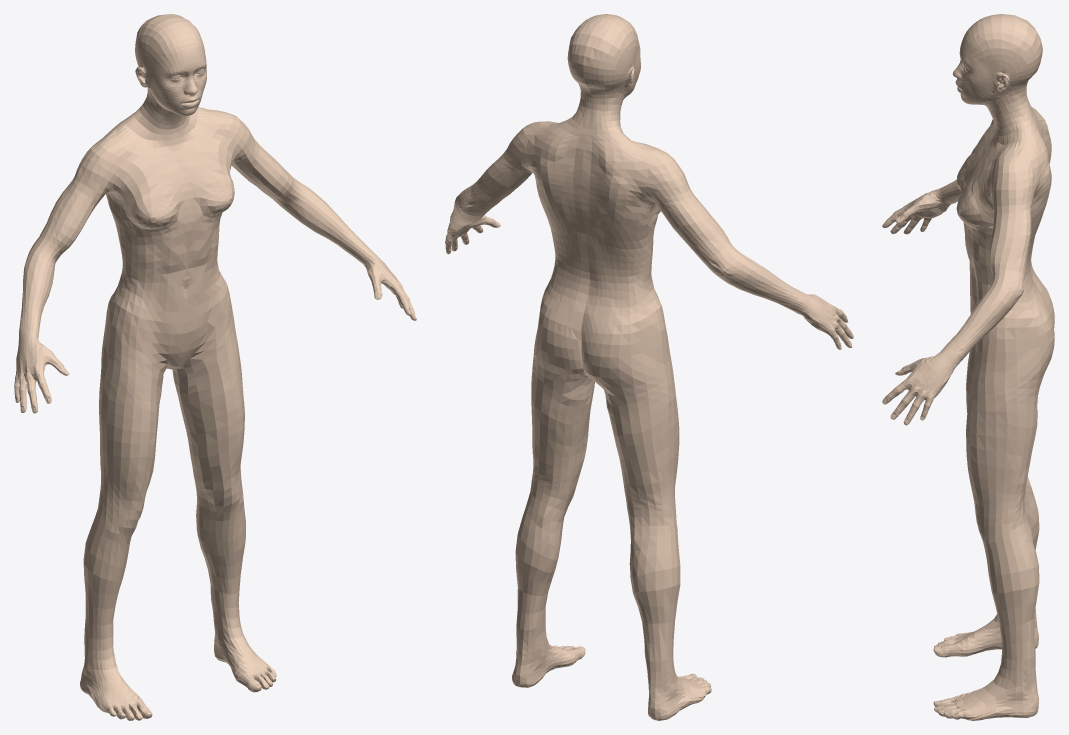
Rendered from female-young-lean-high.glb.
3 renders of one model, left to right at view 1: azimuth 30°, elevation 25°; view 2: azimuth 150°, elevation 25°; view 3: azimuth 270°, elevation 25°, orthographic.
Parts seen in each view (by area): view 1: world; view 2: world; view 3: world.
Part boxes in pixels (<box>): world: <box>14,14,416,720</box>; world: <box>445,14,853,720</box>; world: <box>882,14,1054,720</box>.
Bounding box in the file's own units: 1.09 × 1.76 × 0.4127.
